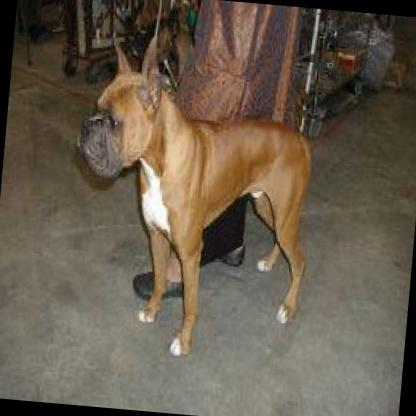boxer: (58, 30, 328, 368)
